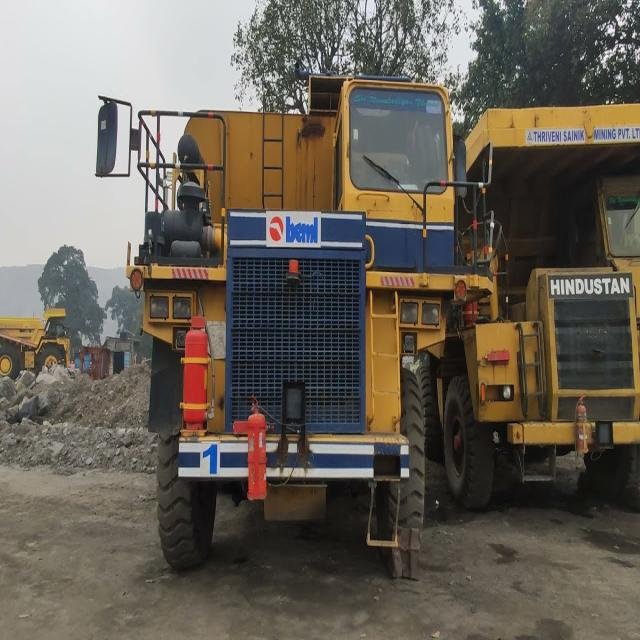dump_truck: (103, 74, 456, 556), (451, 110, 640, 503), (2, 307, 73, 388)
